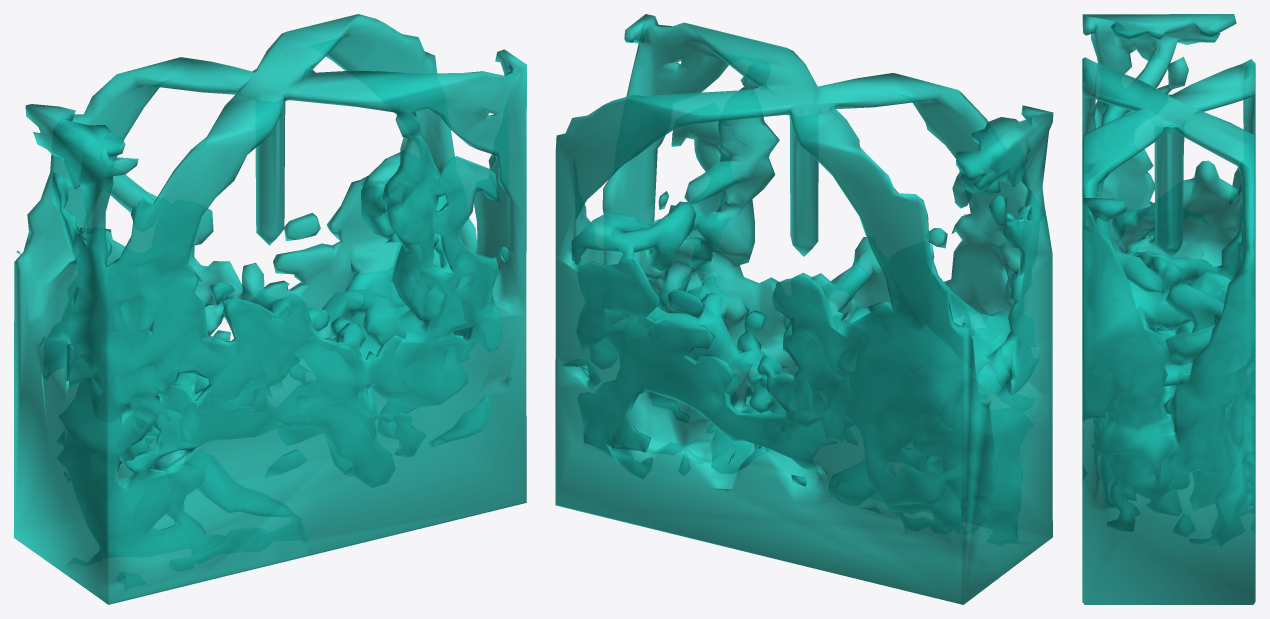
3 renders of one model, left to right at view 1: azimuth 30°, elevation 25°; view 2: azimuth 150°, elevation 25°; view 3: azimuth 270°, elevation 25°, orthographic. The views are drawn at different scales.
Visible parts, largest first — view 1: Liquid_Domain; view 2: Liquid_Domain; view 3: Liquid_Domain.
Part boxes in pixels (left/top/right/bottom): Liquid_Domain: left=14, top=14, right=526, bottom=604; Liquid_Domain: left=555, top=14, right=1053, bottom=604; Liquid_Domain: left=1082, top=14, right=1255, bottom=604.
Size of the model in its own units: 1966 by 1966 by 765.
